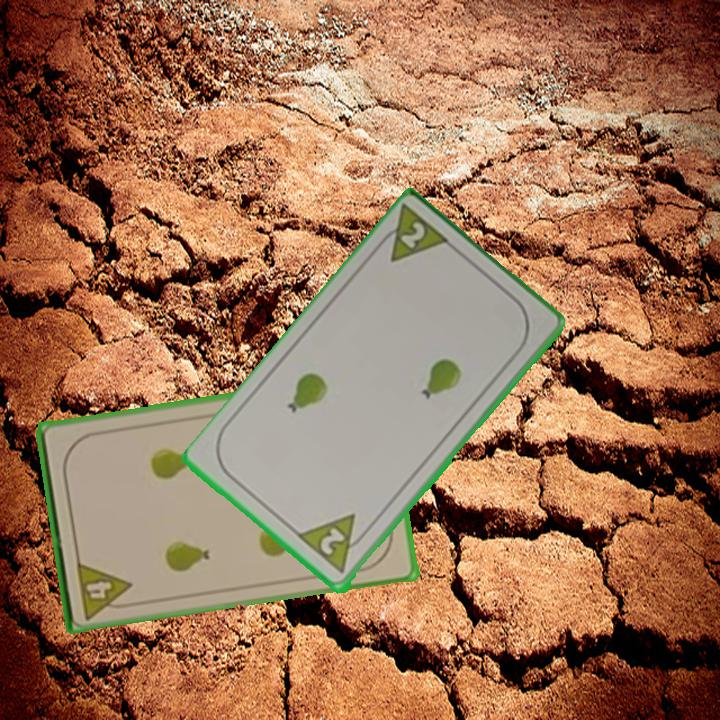2p: (371, 202, 455, 267), (295, 510, 374, 578)
4p: (73, 557, 136, 622)
